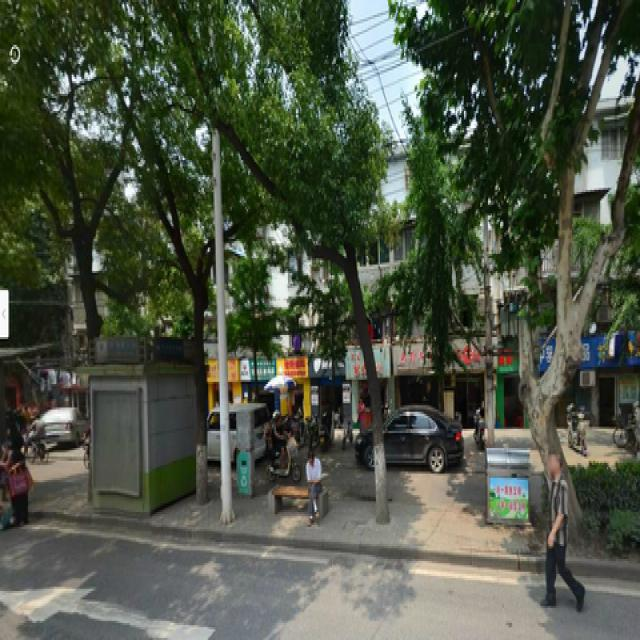meta: (460, 13, 612, 514)
